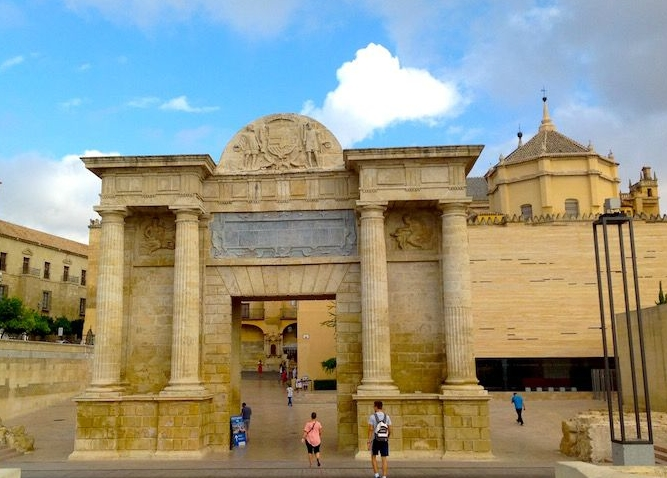vano-adintelado: (209, 280, 351, 455)
